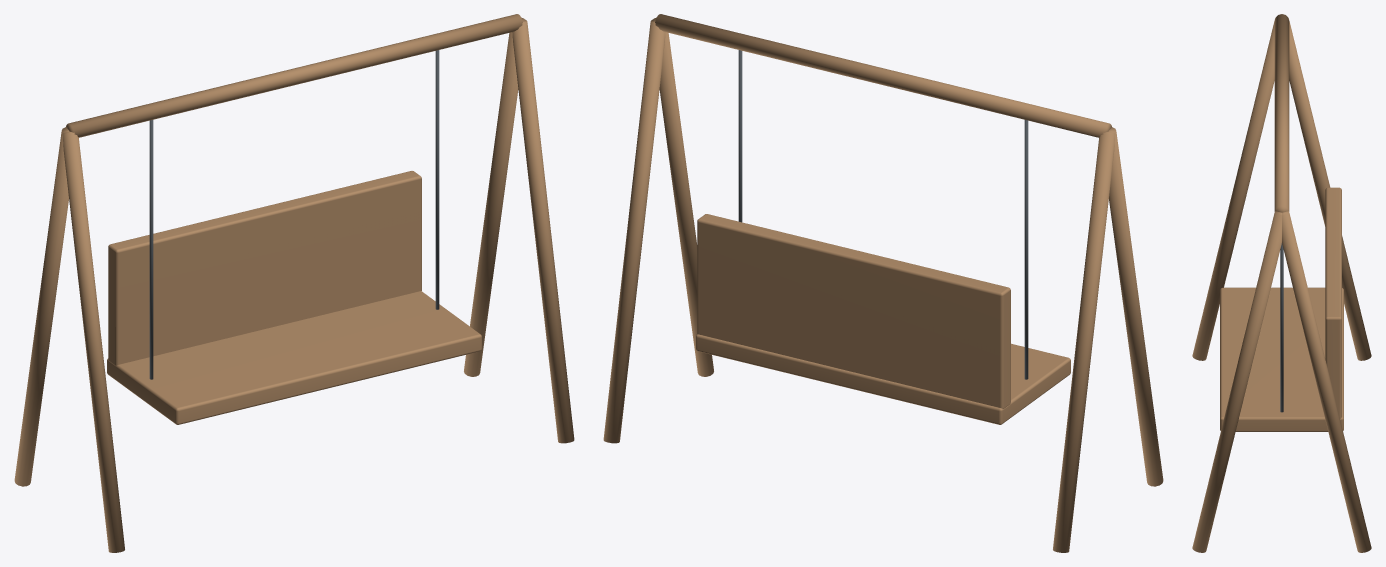
File: atelier-hanging-swing.glb
3 views of the same model, side by side, from view 1: azimuth 30°, elevation 25°; view 2: azimuth 150°, elevation 25°; view 3: azimuth 270°, elevation 25° (orthographic). The views are drawn at different scales.
Visible parts, largest first — view 1: legs.198, metal.172; view 2: legs.198, metal.172; view 3: legs.198, metal.172.
Part boxes in pixels (left/top/right/bottom): legs.198: left=14, top=14, right=574, bottom=552; metal.172: left=149, top=50, right=439, bottom=379; legs.198: left=603, top=14, right=1163, bottom=552; metal.172: left=738, top=50, right=1028, bottom=379; legs.198: left=1192, top=14, right=1371, bottom=552; metal.172: left=1280, top=243, right=1283, bottom=412.
Size of the model in its own units: 2.27 by 1.84 by 0.8683.
